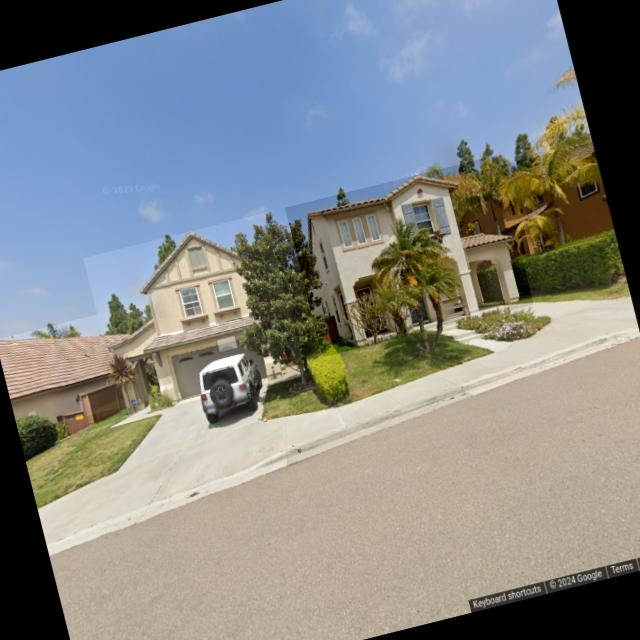House: (285, 154, 534, 356), (83, 212, 305, 418), (446, 142, 615, 270), (0, 307, 148, 432)
